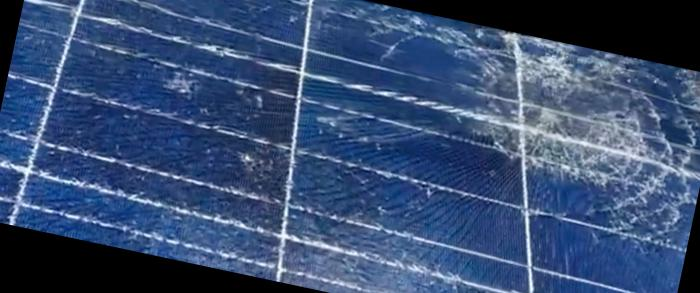Crack: (450, 25, 699, 217)
